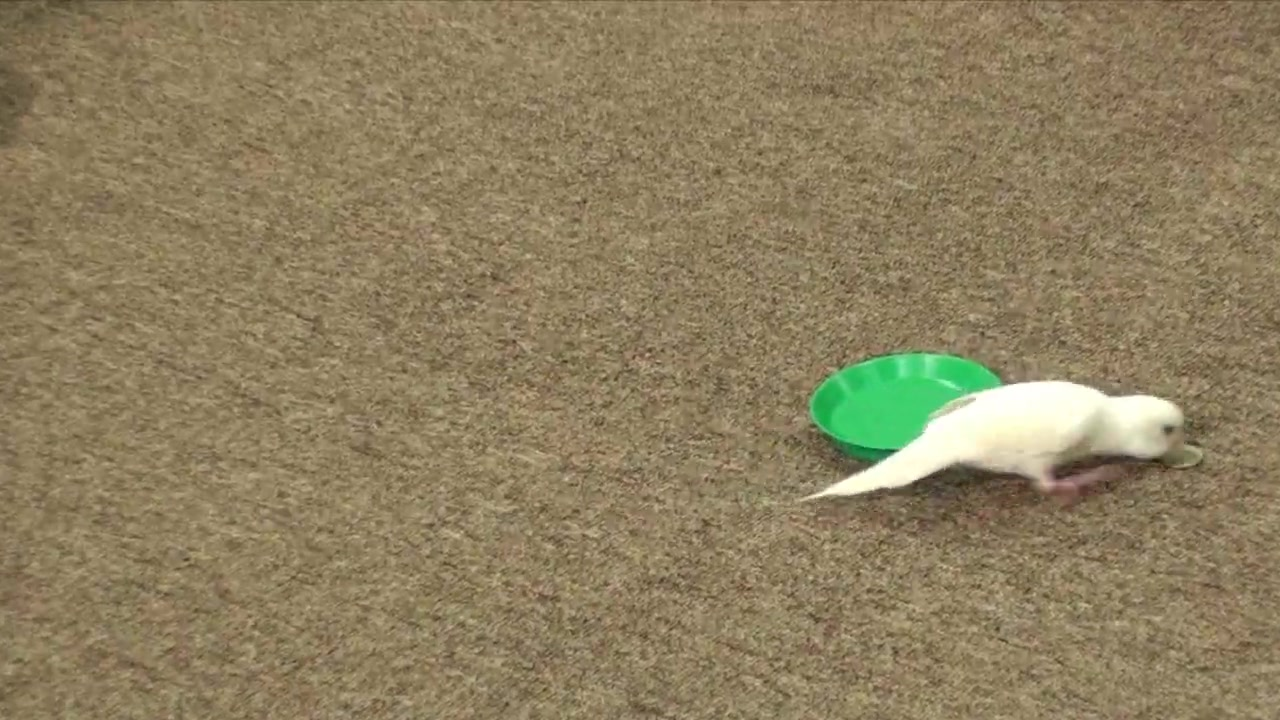bird: (798, 381, 1185, 505)
